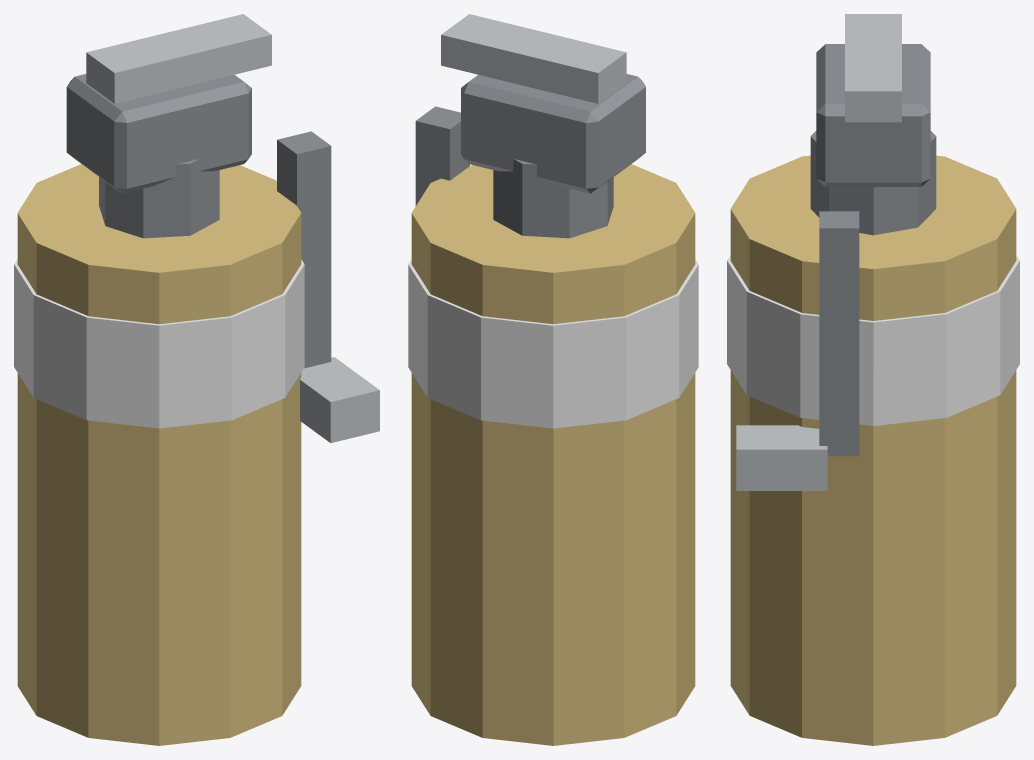
File: P_extinguisher.fbx
The picture shows the model from 3 angles, left to right: view 1: azimuth 30°, elevation 25°; view 2: azimuth 150°, elevation 25°; view 3: azimuth 270°, elevation 25°; orthographic projection.
Parts seen in each view (by area): view 1: P_extinguisher; view 2: P_extinguisher; view 3: P_extinguisher.
Boxes of the visible parts, x1,y1,x2,y2 form: P_extinguisher: [14, 14, 379, 745]; P_extinguisher: [408, 14, 698, 745]; P_extinguisher: [727, 14, 1019, 745].
Bounding box in the file's own units: 0.283 × 0.62 × 0.256.
